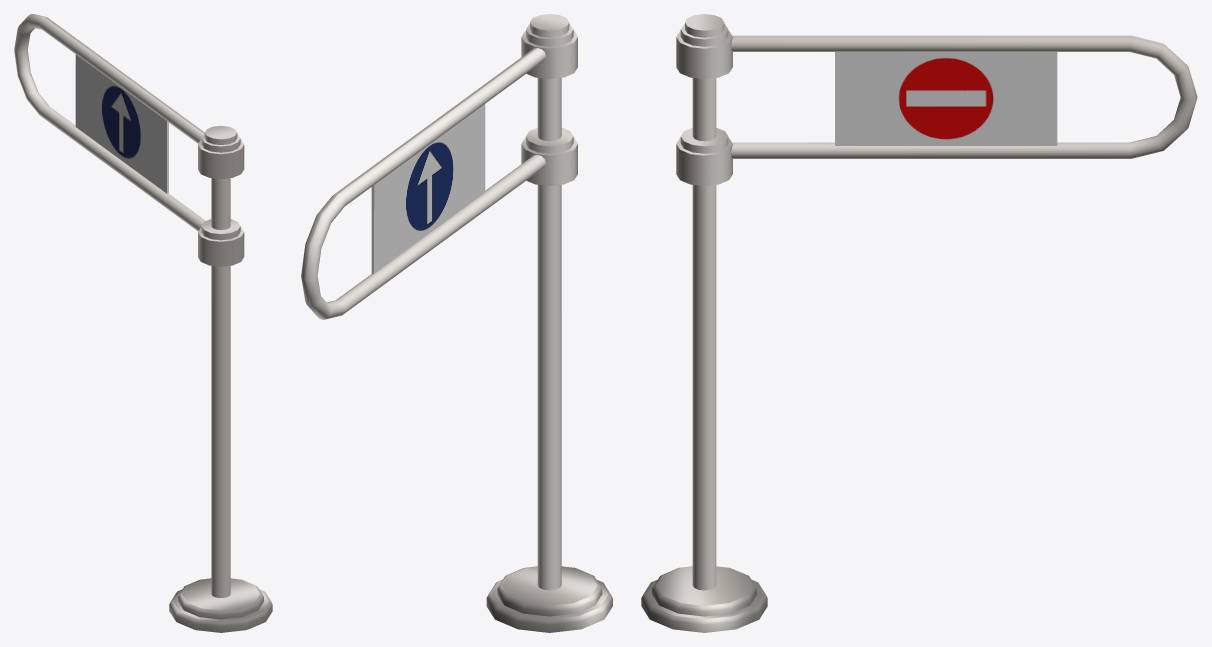
The model's file is sp_passcheckbox.FBX.
3 views of the same model, side by side, from view 1: azimuth 30°, elevation 25°; view 2: azimuth 150°, elevation 25°; view 3: azimuth 270°, elevation 25° (orthographic). The views are drawn at different scales.
Parts seen in each view (by area): view 1: sp_passcheckbox_anim, sp_passcheckbox; view 2: sp_passcheckbox_anim, sp_passcheckbox; view 3: sp_passcheckbox_anim, sp_passcheckbox.
Boxes of the visible parts, bbox=[...] form: sp_passcheckbox_anim: bbox=[14, 14, 244, 266]; sp_passcheckbox: bbox=[169, 125, 272, 632]; sp_passcheckbox_anim: bbox=[301, 24, 577, 319]; sp_passcheckbox: bbox=[486, 14, 612, 632]; sp_passcheckbox_anim: bbox=[676, 24, 1197, 186]; sp_passcheckbox: bbox=[641, 14, 767, 632].
Bounding box in the file's own units: 4.72 × 20.76 × 24.05.
